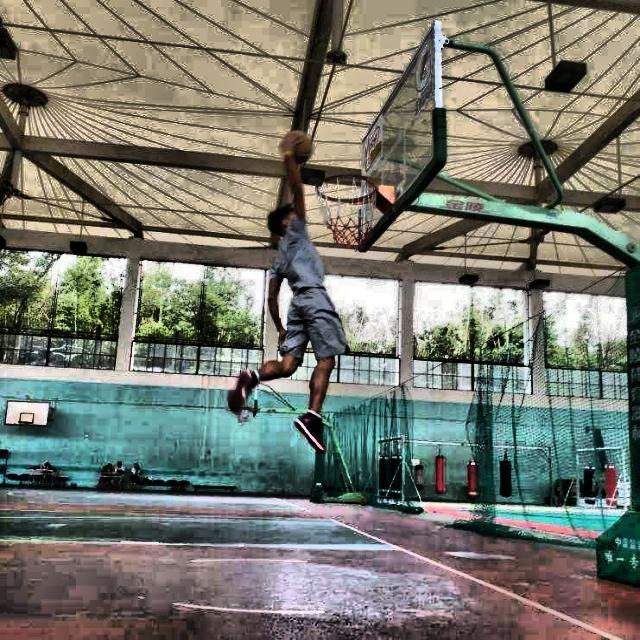rim: (316, 172, 378, 248)
